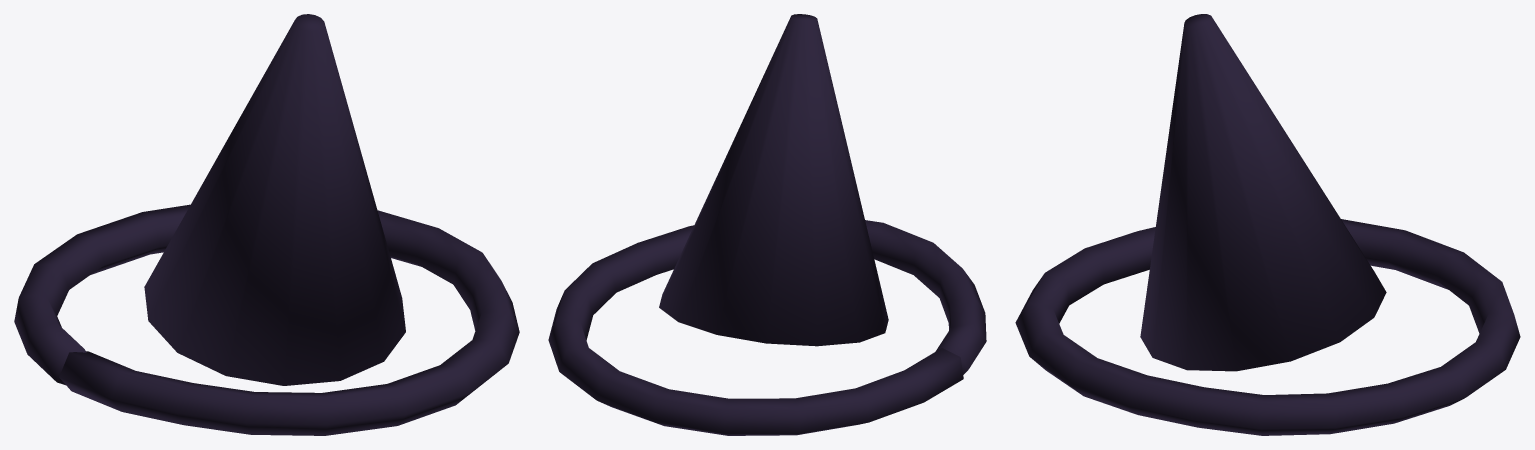
File: witch_hat.glb
The picture shows the model from 3 angles, left to right: view 1: azimuth 30°, elevation 25°; view 2: azimuth 150°, elevation 25°; view 3: azimuth 270°, elevation 25°; orthographic projection. The views are drawn at different scales.
Visible parts, largest first — view 1: witch_hat_head; view 2: witch_hat_head; view 3: witch_hat_head.
Boxes of the visible parts, left/top/right/bottom form: witch_hat_head: left=14, top=14, right=519, bottom=435; witch_hat_head: left=548, top=14, right=986, bottom=435; witch_hat_head: left=1015, top=14, right=1520, bottom=435.
Size of the model in its own units: 0.3962 by 0.3055 by 0.4223.
